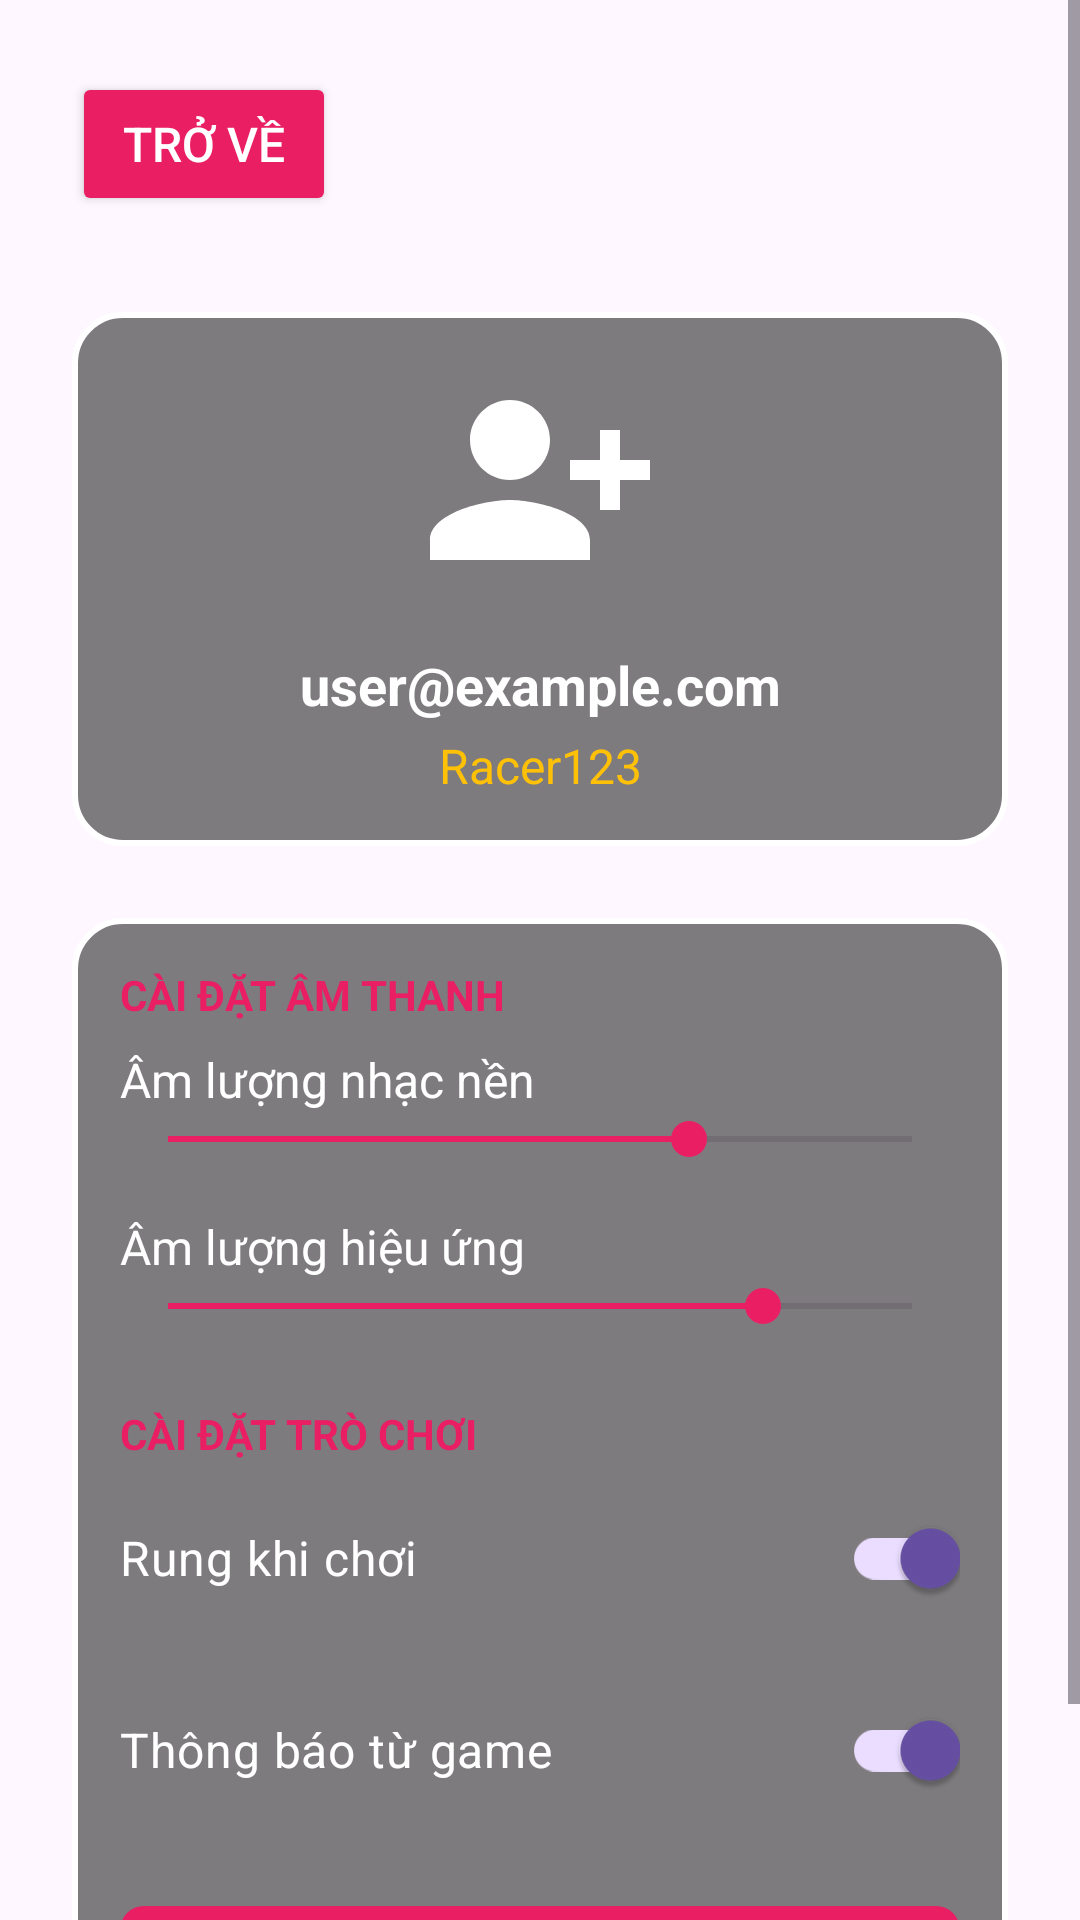

Where icons sit on this 1080×1920 app screen, as BBox(x1, y1, x2, y2):
profile: BBox(430, 400, 650, 560)
